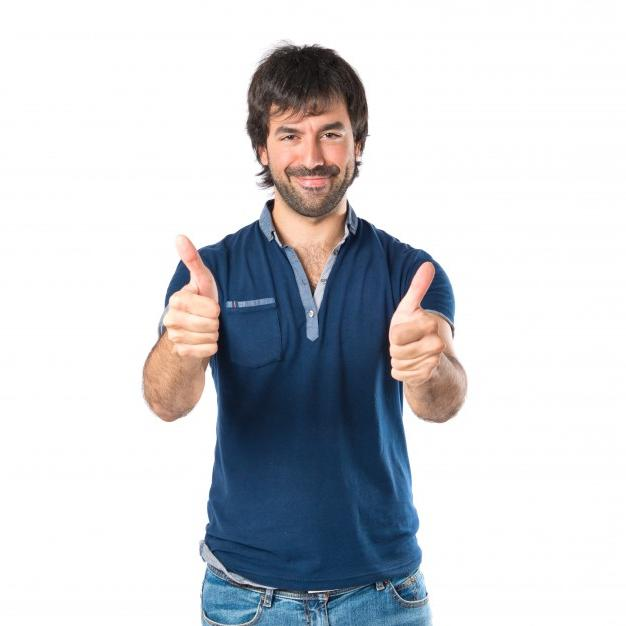thumbsup: (164, 234, 221, 358), (390, 261, 445, 385)
